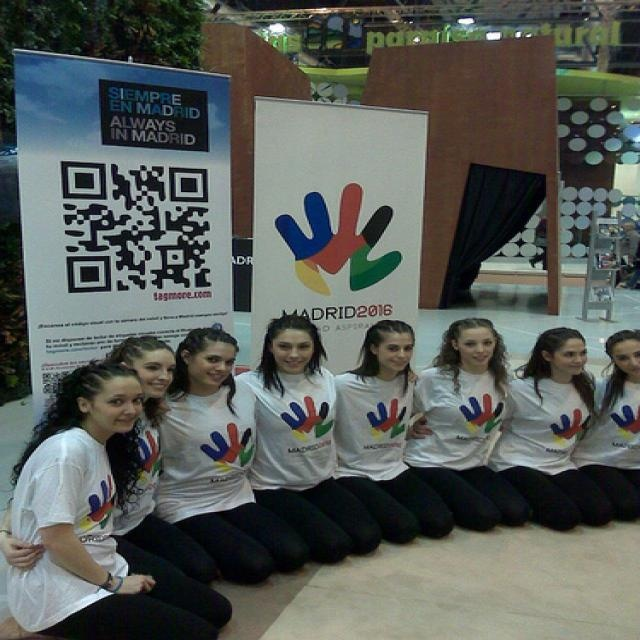qr-code: (60, 161, 210, 292), (42, 371, 68, 393)
